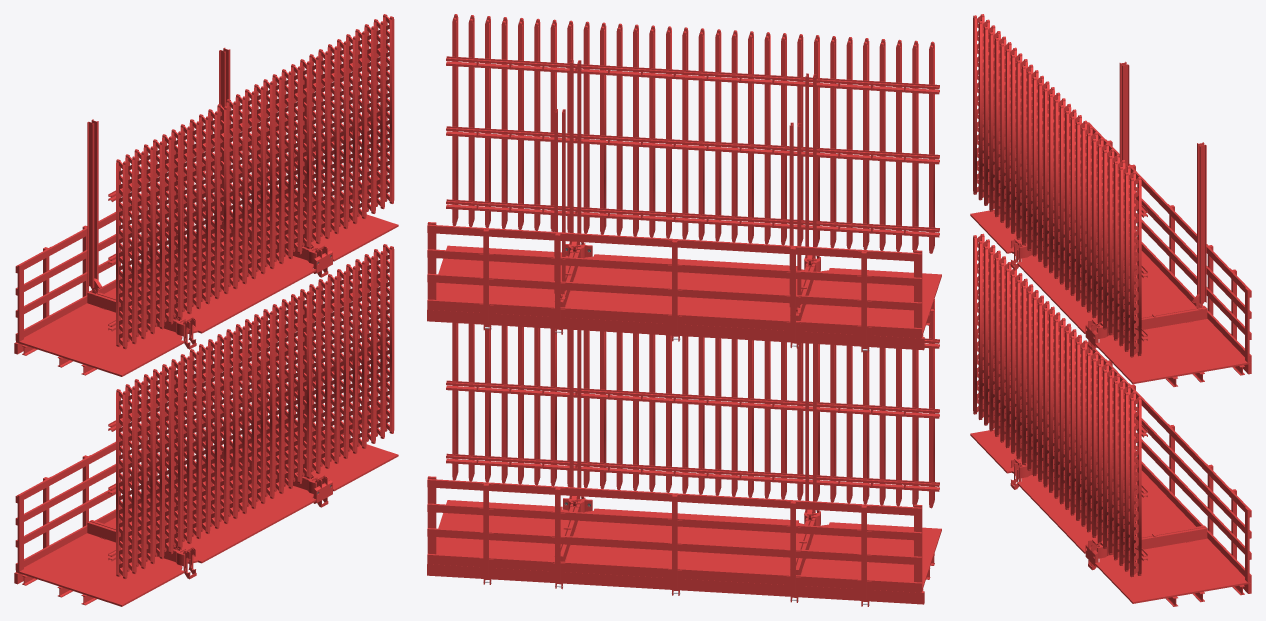
Rendered from ACS_Baked.fbx.
3 views of the same model, side by side, from view 1: azimuth 30°, elevation 25°; view 2: azimuth 150°, elevation 25°; view 3: azimuth 270°, elevation 25° (orthographic). The views are drawn at different scales.
Parts seen in each view (by area): view 1: Baked Mesh 4, Baked Mesh; view 2: Baked Mesh 4, Baked Mesh; view 3: Baked Mesh 4, Baked Mesh.
Boxes of the visible parts, box(x1,y1,x2,y2) form: Baked Mesh 4: box(15, 14, 398, 606); Baked Mesh: box(14, 47, 387, 584); Baked Mesh 4: box(427, 14, 941, 592); Baked Mesh: box(427, 56, 939, 606); Baked Mesh 4: box(970, 14, 1251, 606); Baked Mesh: box(1018, 61, 1251, 593).
Bounding box in the file's own units: 574 × 618 × 359.
